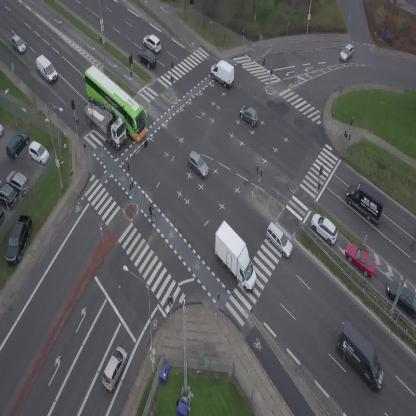bicycle: (146, 204, 156, 222)
bus: (74, 61, 158, 143)
car: (340, 237, 382, 281), (97, 344, 131, 393), (259, 220, 298, 260), (306, 209, 343, 247), (182, 149, 214, 180), (236, 102, 263, 128), (134, 46, 160, 72), (140, 31, 165, 55), (7, 33, 28, 56), (336, 42, 358, 63)
lorry: (325, 320, 397, 394), (200, 220, 272, 294), (77, 94, 135, 151), (339, 177, 393, 227), (206, 56, 240, 90), (31, 53, 61, 83)
